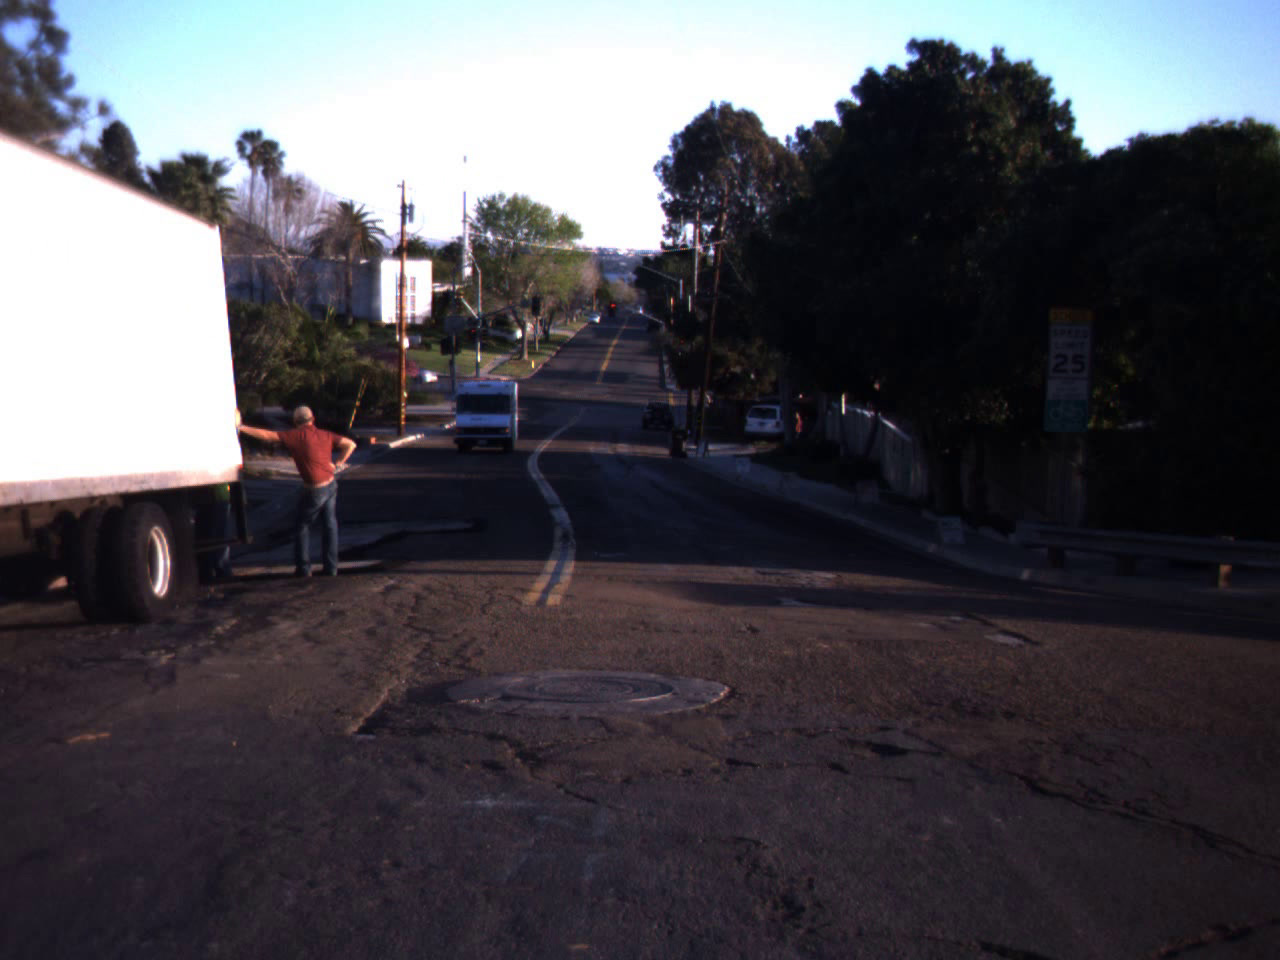stop: (465, 326, 480, 344)
